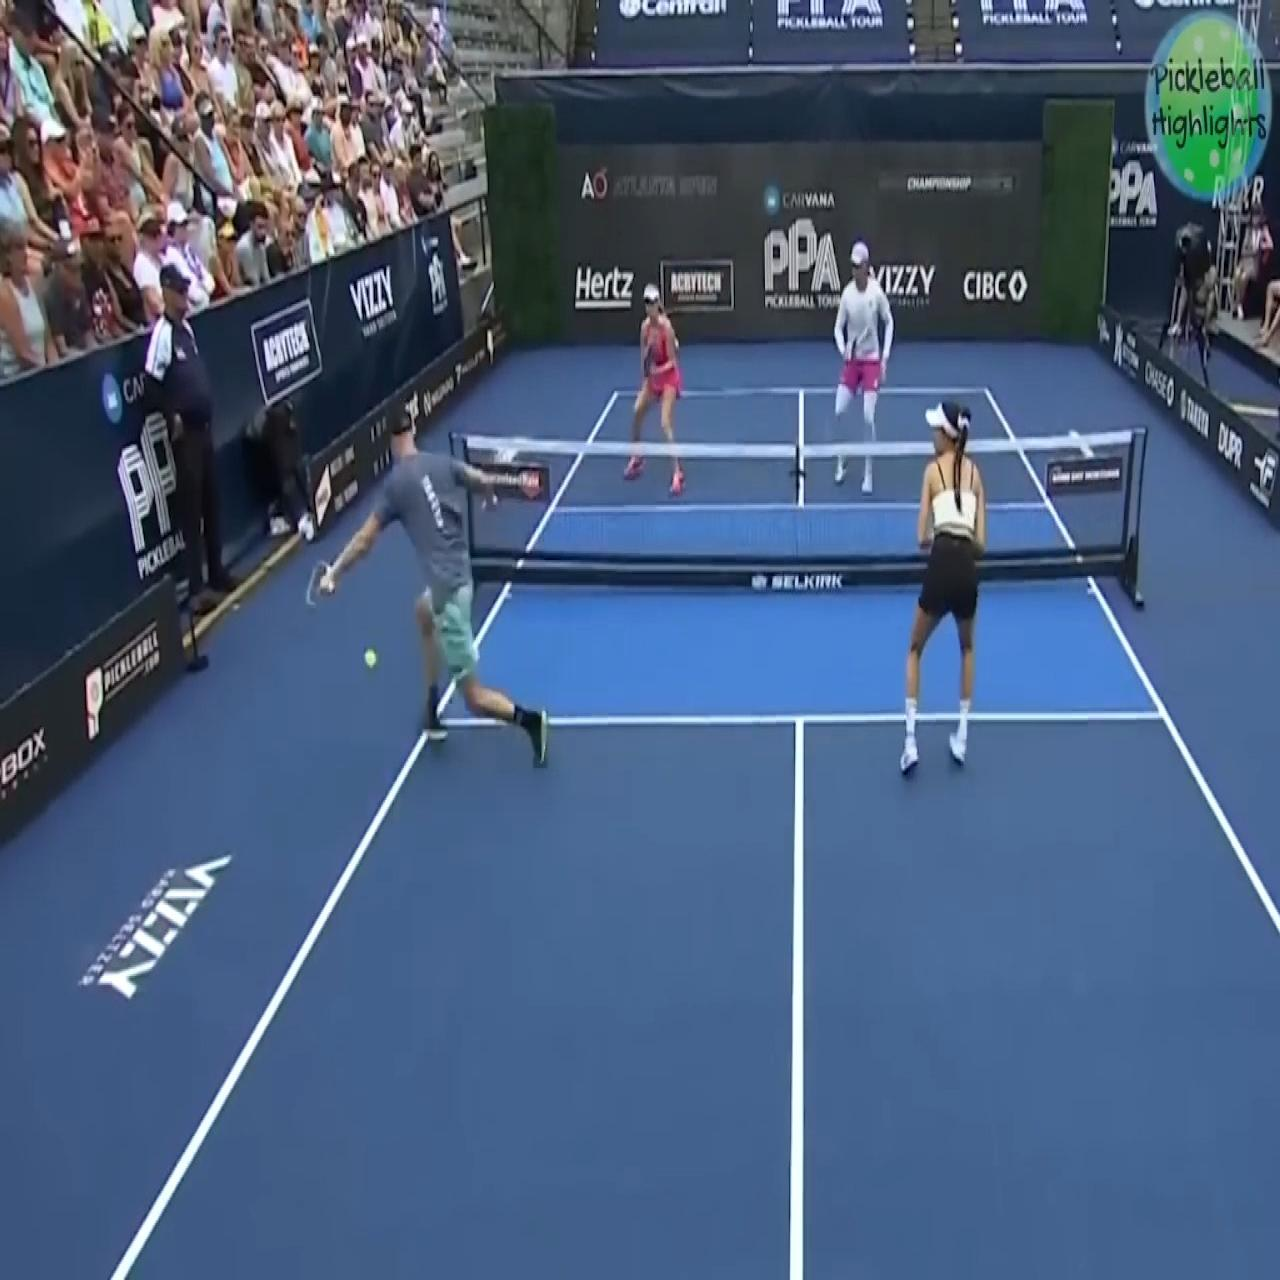Pickleball: (362, 642, 378, 672)
